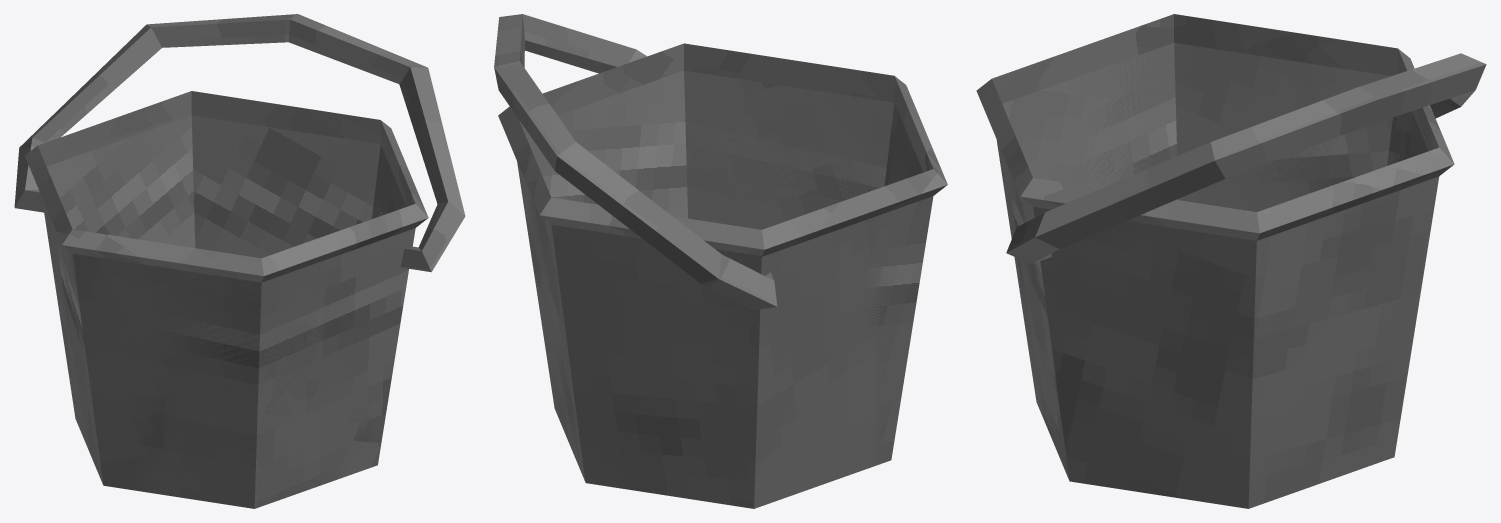
File: bucket.fbx
The picture shows the model from 3 angles, left to right: view 1: azimuth 30°, elevation 25°; view 2: azimuth 150°, elevation 25°; view 3: azimuth 270°, elevation 25°; orthographic projection. The views are drawn at different scales.
Visible parts, largest first — view 1: ведро, ручка ведра; view 2: ведро, ручка ведра; view 3: ведро, ручка ведра.
Boxes of the visible parts, x1,y1,x2,y2 form: ведро: (25,91,428,508); ручка ведра: (14,14,465,272); ведро: (498,43,947,508); ручка ведра: (494,14,777,309); ведро: (976,14,1454,508); ручка ведра: (1006,53,1486,263).
Bounding box in the file's own units: 9.54 × 8.27 × 9.26.
